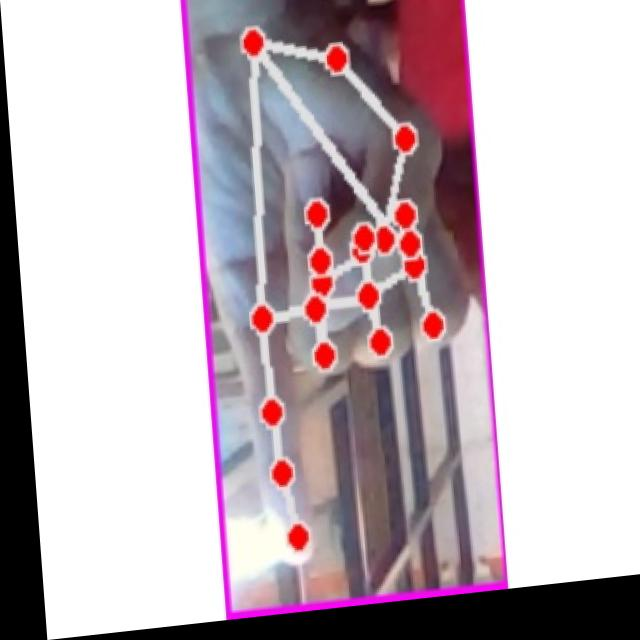I: (193, 0, 486, 586)
